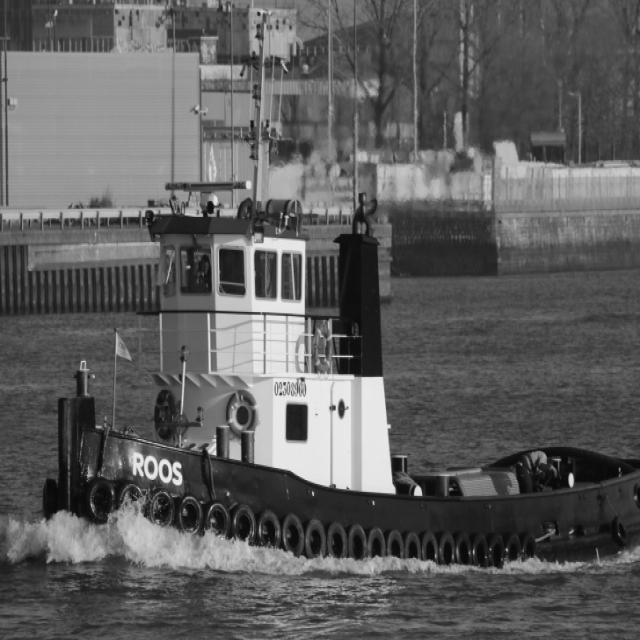tugboat: (39, 1, 640, 595)
